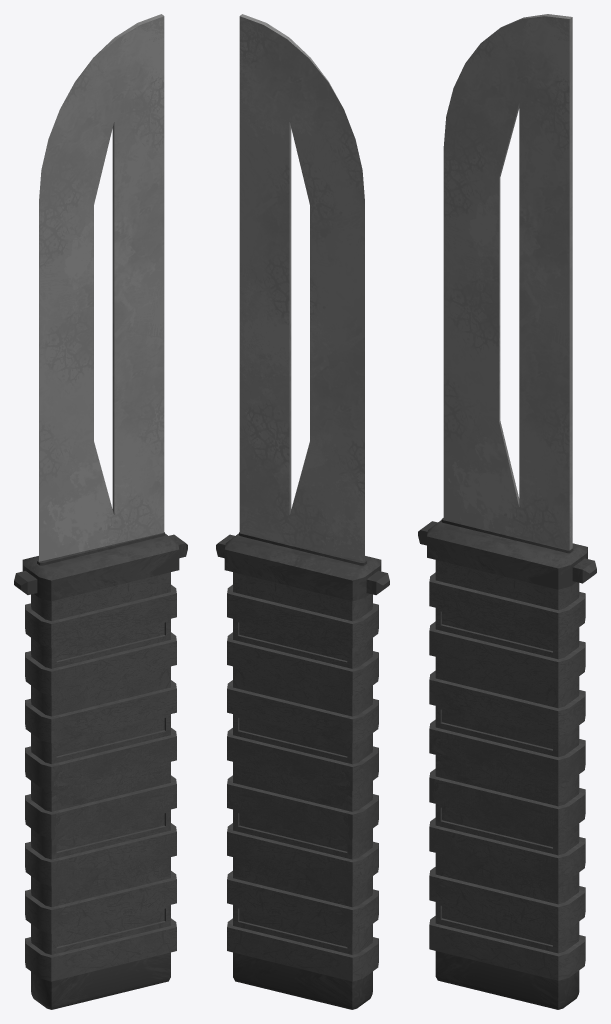
File: knife.fbx
3 renders of one model, left to right at view 1: azimuth 30°, elevation 25°; view 2: azimuth 150°, elevation 25°; view 3: azimuth 330°, elevation 25°, orthographic. The views are drawn at different scales.
Visible parts, largest first — view 1: Knife; view 2: Knife; view 3: Knife.
Part boxes in pixels (x1,y1,x2,y2): Knife: (14, 14, 187, 1009); Knife: (216, 14, 389, 1009); Knife: (418, 14, 596, 1009).
Bounding box in the file's own units: 0.0539 × 0.2961 × 0.016.
